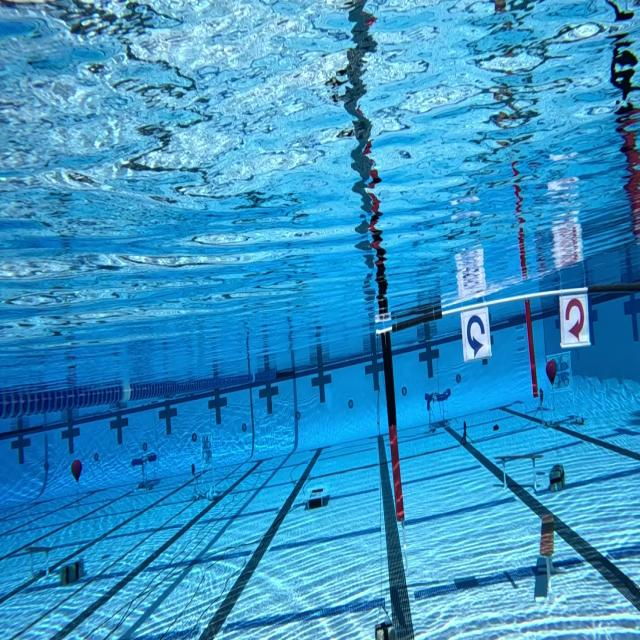blue_side: (461, 302, 495, 359)
red_side: (560, 289, 592, 352)
